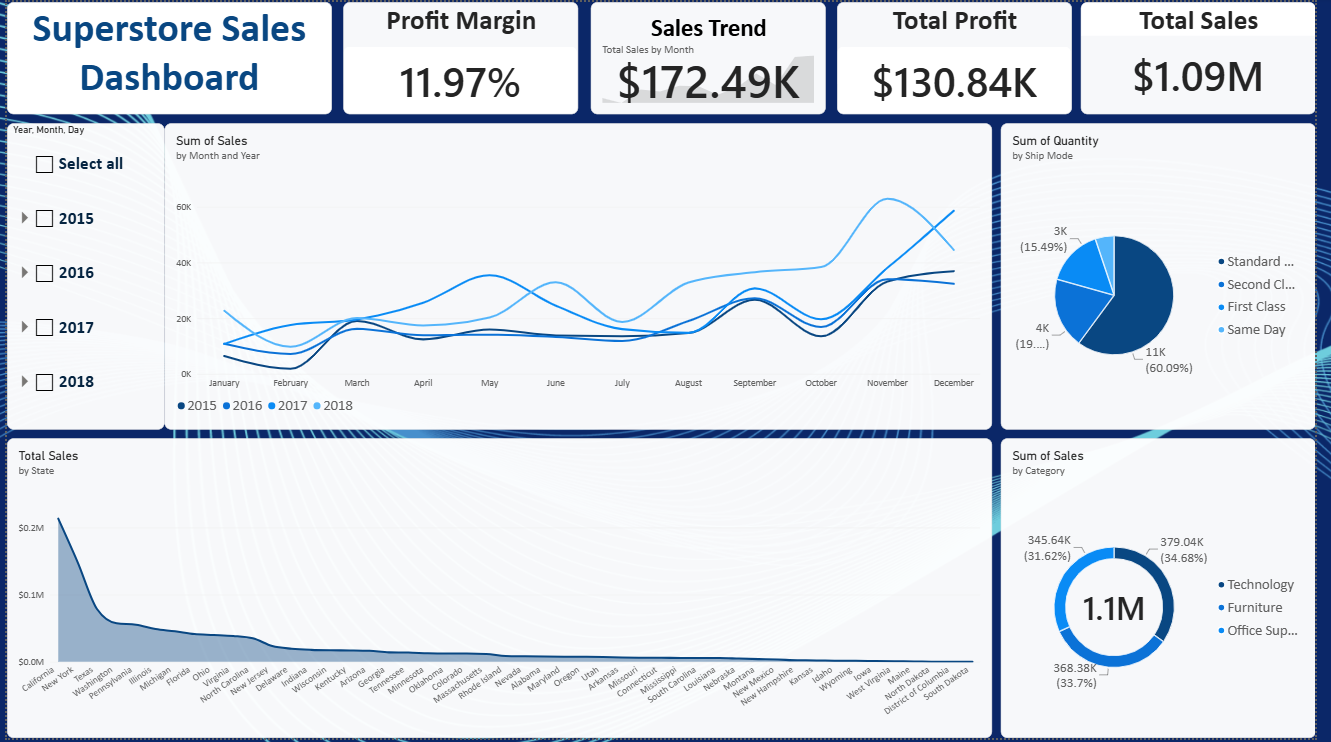

The page's visual inventory and layout, read from the dashboard file:
{"tool":"powerbi","page":{"name":"Page 1","canvas":[1920,1080],"ordinal":0},"visuals":[{"type":"cardVisual","title":"Total Sales","fields":{"Data":["superstore.Total Sales"]},"box":[1575.6,0,344.8,165.1],"z":1000},{"type":"lineChart","fields":{"Category":["superstore.Order Date.Variation.Date Hierarchy.Month"],"Series":["superstore.Order Date.Variation.Date Hierarchy.Year"],"Y":["Sum(superstore.Sales)"]},"box":[231.1,177.9,1214.3,449.4],"z":2000},{"type":"donutChart","fields":{"Category":["superstore.Category"],"Y":["Sum(superstore.Sales)"]},"box":[1458.2,640.2,462.2,440.2],"z":3000},{"type":"cardVisual","title":"Total Profit","fields":{"Data":["superstore.Total Profit"]},"box":[1217.9,0,344.8,165.1],"z":3500},{"type":"areaChart","fields":{"Category":["superstore.State"],"Y":["superstore.Total Sales"]},"box":[0,640.2,1445.4,440.2],"z":4000},{"type":"slicer","fields":{"Values":["superstore.Order Date.Variation.Date Hierarchy.Year","superstore.Order Date.Variation.Date Hierarchy.Month","superstore.Order Date.Variation.Date Hierarchy.Day"]},"box":[0,177.9,231.1,449.4],"z":4001},{"type":"kpi","title":"Sales Trend","fields":{"Indicator":["superstore.Total Sales"],"TrendLine":["superstore.Order Date.Variation.Date Hierarchy.Month"]},"box":[856.6,0,344.8,165.1],"z":4002},{"type":"pieChart","fields":{"Category":["superstore.Ship Mode"],"Y":["Sum(superstore.Quantity)"]},"box":[1458.2,177.9,462.2,449.4],"z":4003},{"type":"cardVisual","title":"Profit Margin","fields":{"Data":["superstore.Profit Margin"]},"box":[493.4,0,344.8,165.1],"z":4004},{"type":"textbox","box":[0,0,476.9,165.1],"z":4005}]}

Visuals, with their boxes in screenshot pixels (x1, y1, x2, y2), scaled from the page's 1920x1080 canvas onto the 1331x742 screenshot:
"Total Sales" cardVisual: pyautogui.locateOnScreen(1092, 0, 1330, 113)
lineChart - superstore.Order Date.Variation.Date Hierarchy.Month x superstore.Order Date.Variation.Date Hierarchy.Year: pyautogui.locateOnScreen(160, 122, 1002, 431)
donutChart - superstore.Category x Sum(superstore.Sales): pyautogui.locateOnScreen(1011, 440, 1330, 741)
"Total Profit" cardVisual: pyautogui.locateOnScreen(844, 0, 1083, 113)
areaChart - superstore.State x superstore.Total Sales: pyautogui.locateOnScreen(0, 440, 1002, 741)
slicer - superstore.Order Date.Variation.Date Hierarchy.Year x superstore.Order Date.Variation.Date Hierarchy.Month: pyautogui.locateOnScreen(0, 122, 160, 431)
"Sales Trend" kpi: pyautogui.locateOnScreen(594, 0, 833, 113)
pieChart - superstore.Ship Mode x Sum(superstore.Quantity): pyautogui.locateOnScreen(1011, 122, 1330, 431)
"Profit Margin" cardVisual: pyautogui.locateOnScreen(342, 0, 581, 113)
textbox: pyautogui.locateOnScreen(0, 0, 331, 113)
